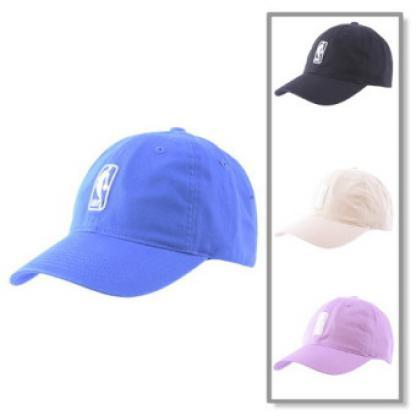cap: (4, 112, 260, 314)
